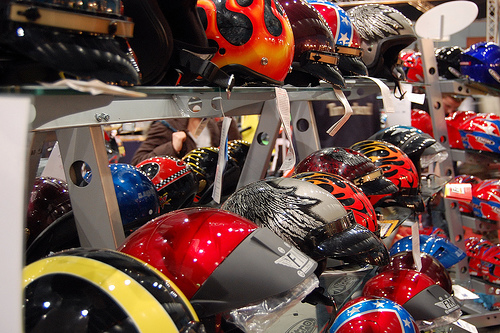helmet: (148, 204, 304, 308), (222, 180, 361, 249), (196, 1, 300, 77), (346, 5, 417, 68), (374, 275, 452, 319), (309, 145, 375, 189), (459, 114, 500, 151), (474, 180, 497, 217)
